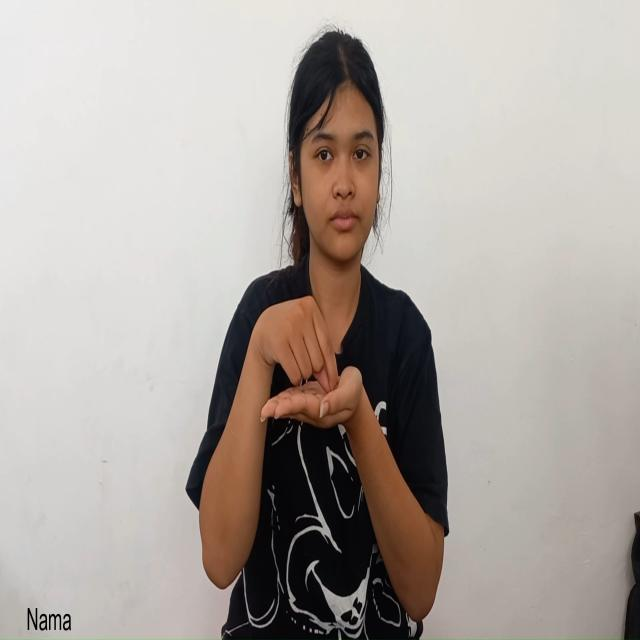Nama -BISINDO-: (248, 289, 367, 466)
